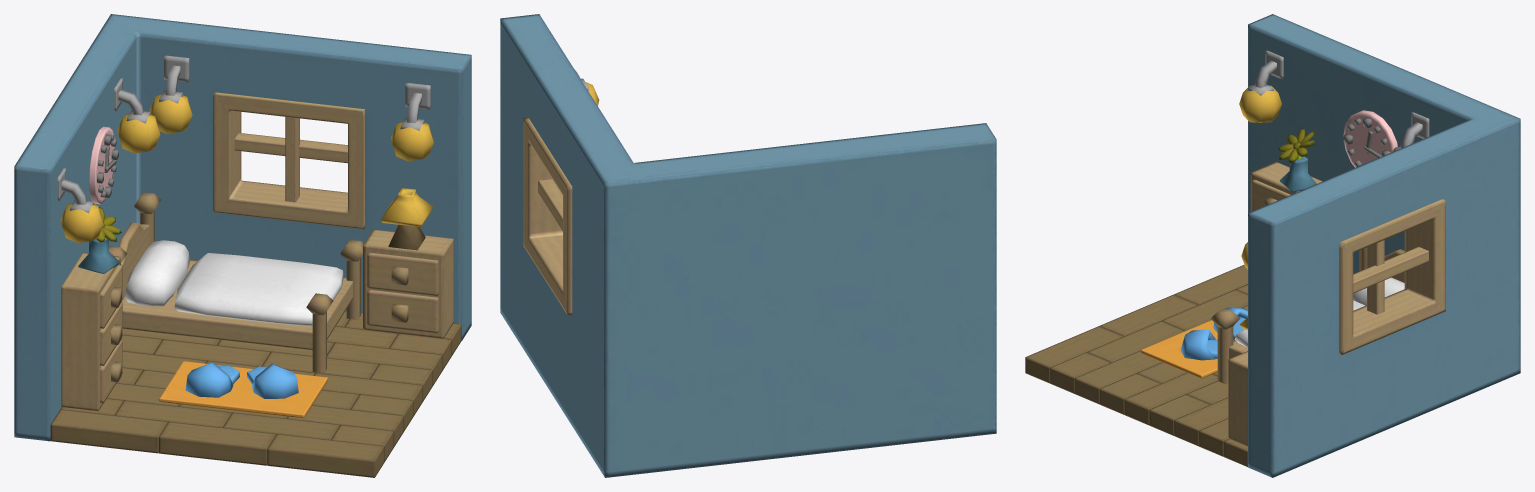
Rendered from Room.glb.
3 renders of one model, left to right at view 1: azimuth 30°, elevation 25°; view 2: azimuth 150°, elevation 25°; view 3: azimuth 270°, elevation 25°, orthographic. The views are drawn at different scales.
Visible parts, largest first — view 1: Isometric Room; view 2: Isometric Room; view 3: Isometric Room.
Boxes of the visible parts, x1,y1,x2,y2 form: Isometric Room: [14, 14, 471, 477]; Isometric Room: [500, 14, 996, 477]; Isometric Room: [1025, 14, 1520, 477].
Size of the model in its own units: 2.83 by 1.6 by 2.83.
1 material, 1 textured.
